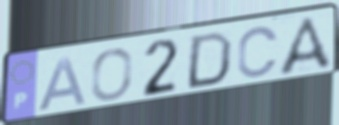2: (141, 37, 181, 100)
A: (275, 13, 336, 79), (36, 54, 89, 113)
C: (235, 24, 281, 80)
D: (183, 30, 235, 92)
O: (89, 46, 135, 103)
